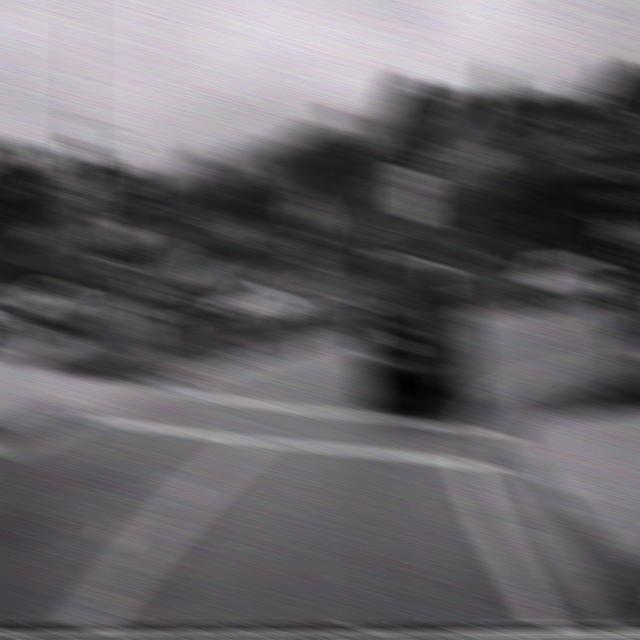noRightTurn: (63, 177, 104, 228)
